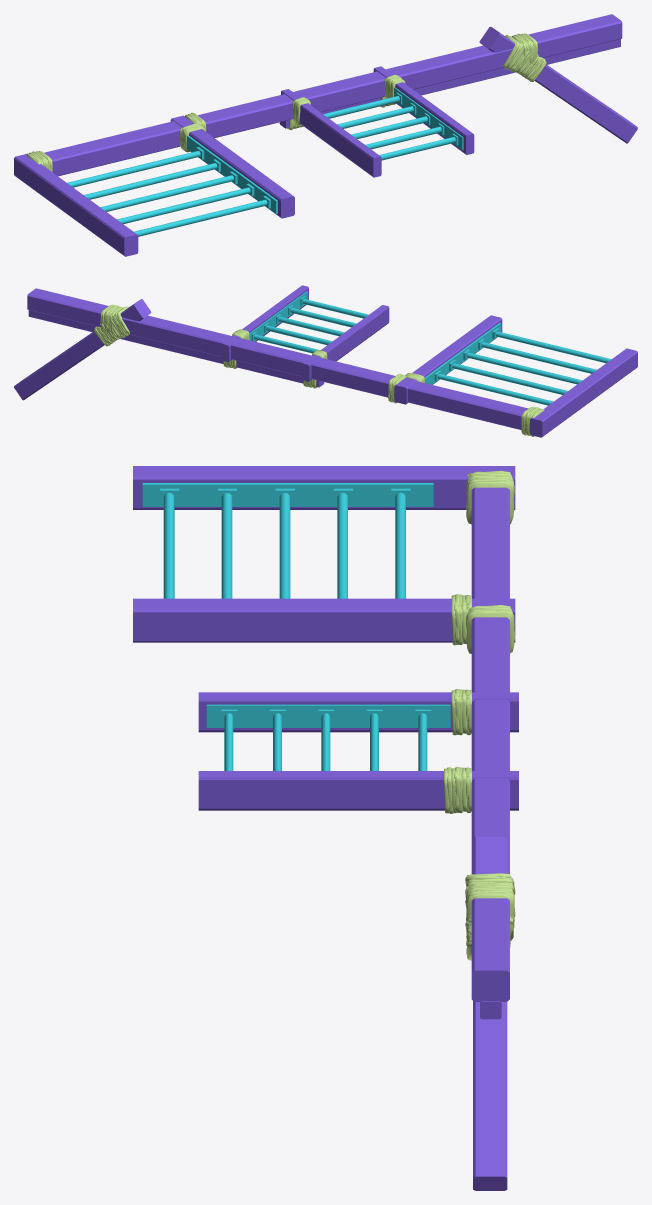
Rendered from Boss2_Platform_Top_Right.fbx.
3 renders of one model, top to bottom at view 1: azimuth 30°, elevation 25°; view 2: azimuth 150°, elevation 25°; view 3: azimuth 270°, elevation 25°, orthographic. The views are drawn at different scales.
Parts seen in each view (by area): view 1: Rope03.010; view 2: Rope03.010; view 3: Rope03.010.
Boxes of the visible parts, <box> form: Rope03.010: <box>14,14,637,256</box>; Rope03.010: <box>14,285,637,437</box>; Rope03.010: <box>133,466,518,1190</box>.
Size of the model in its own units: 3206 by 711 by 1010.
